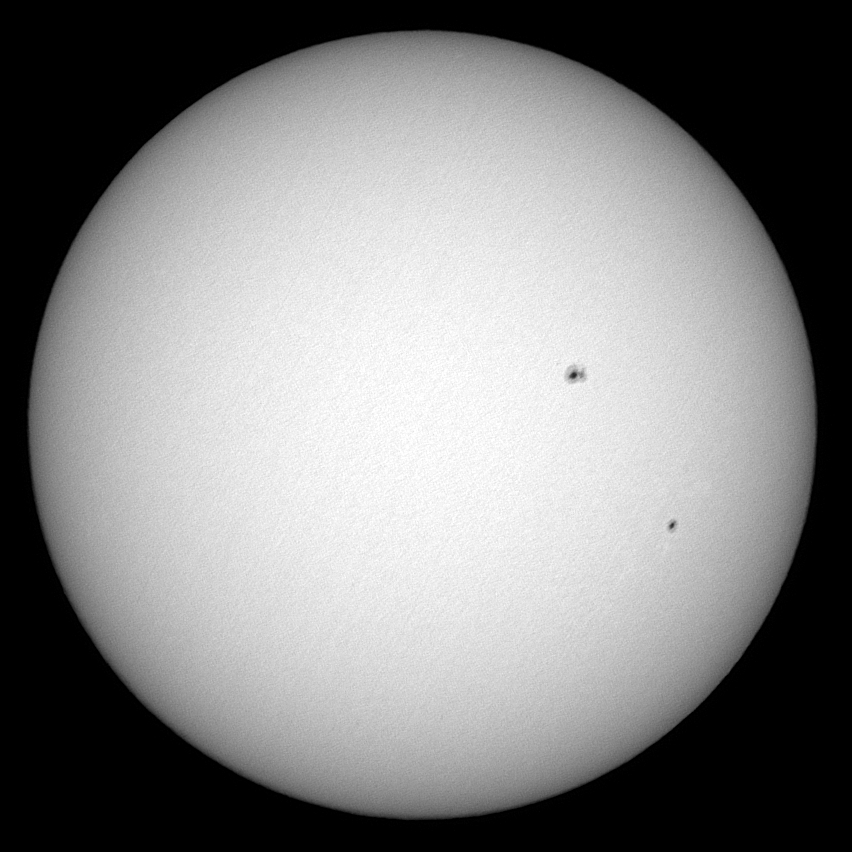sunspot: (562, 361, 588, 383), (664, 516, 681, 531)
